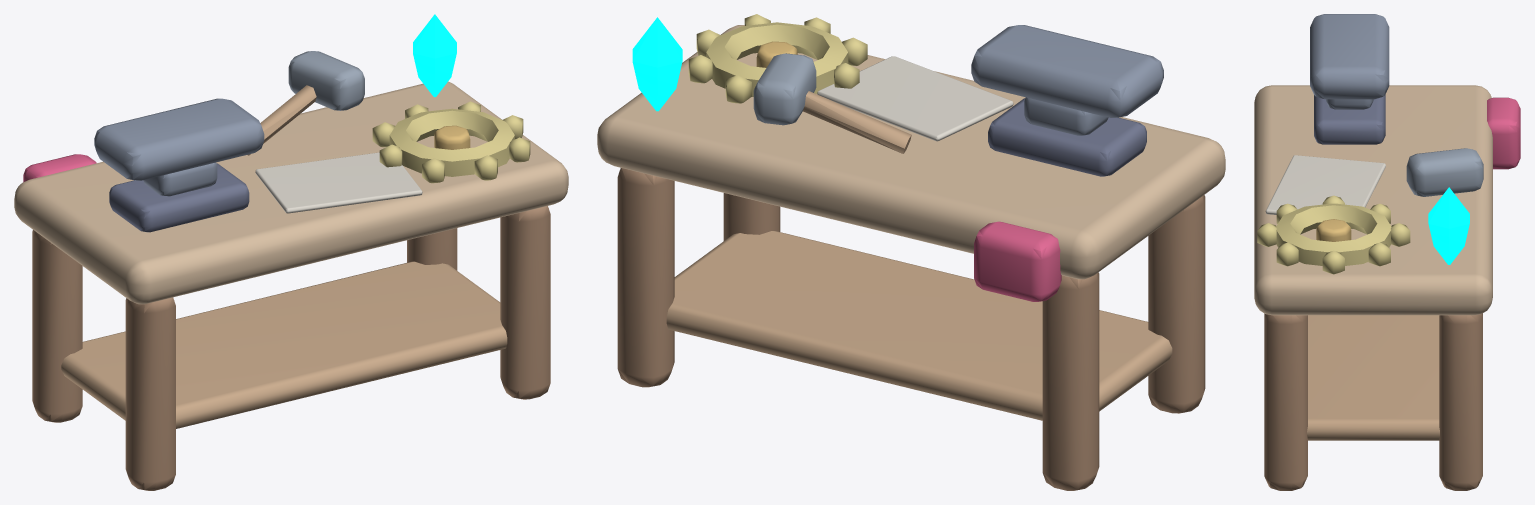
The model's file is bench.glb.
3 views of the same model, side by side, from view 1: azimuth 30°, elevation 25°; view 2: azimuth 150°, elevation 25°; view 3: azimuth 270°, elevation 25° (orthographic). The views are drawn at different scales.
Visible parts, largest first — view 1: Body, Glow_00E5FF; view 2: Body, Glow_00E5FF; view 3: Body, Glow_00E5FF.
Boxes of the visible parts, box(x1,y1,x2,y2) form: Body: box(14, 51, 568, 490); Glow_00E5FF: box(413, 14, 456, 97); Body: box(597, 14, 1225, 490); Glow_00E5FF: box(632, 17, 682, 111); Body: box(1254, 14, 1520, 490); Glow_00E5FF: box(1428, 187, 1469, 264).
Bounding box in the file's own units: 6 × 4.22 × 3.35.
